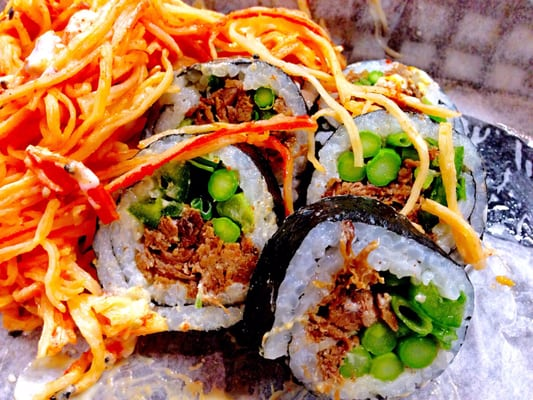pizza: (418, 198, 492, 270)
